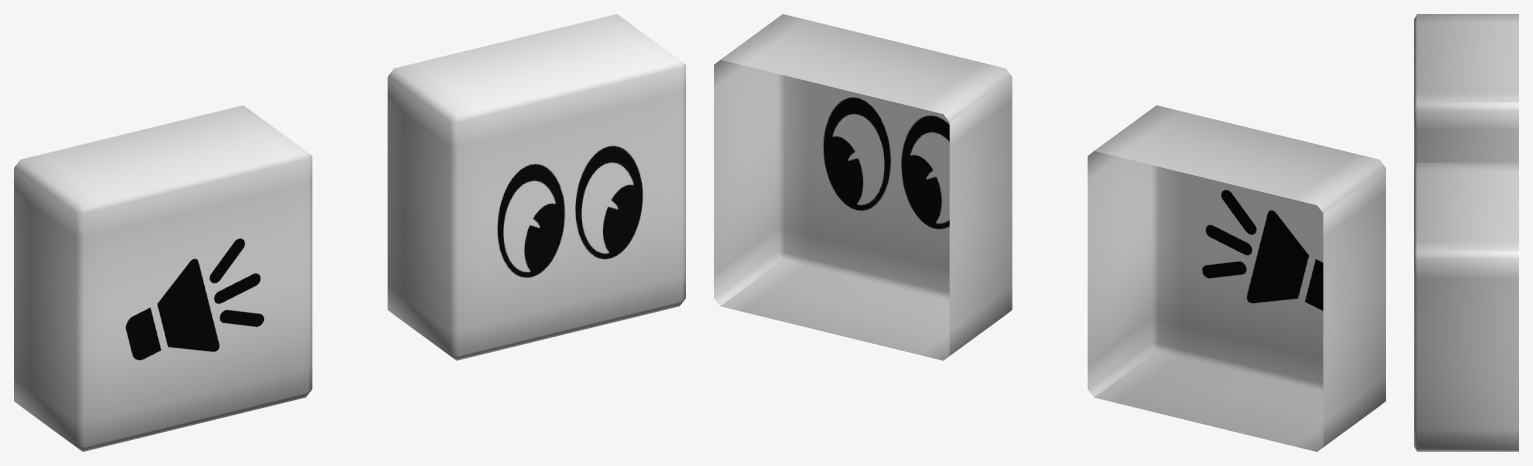
Rendered from N-Back Board.fbx.
The picture shows the model from 3 angles, left to right: view 1: azimuth 30°, elevation 25°; view 2: azimuth 150°, elevation 25°; view 3: azimuth 270°, elevation 25°; orthographic projection. The views are drawn at different scales.
Visible parts, largest first — view 1: Cube.005, Cube.006; view 2: Cube.005, Cube.006; view 3: Cube.005, Cube.006.
Boxes of the visible parts, x1,y1,x2,y2 form: Cube.005: (387,14,685,360); Cube.006: (14,105,312,451); Cube.005: (714,14,1012,360); Cube.006: (1087,105,1385,451); Cube.005: (1414,162,1518,451); Cube.006: (1414,14,1518,167).
Bounding box in the file's own units: 35.87 × 13.87 × 6.56.
Materials: 2 (2 with a texture image).
